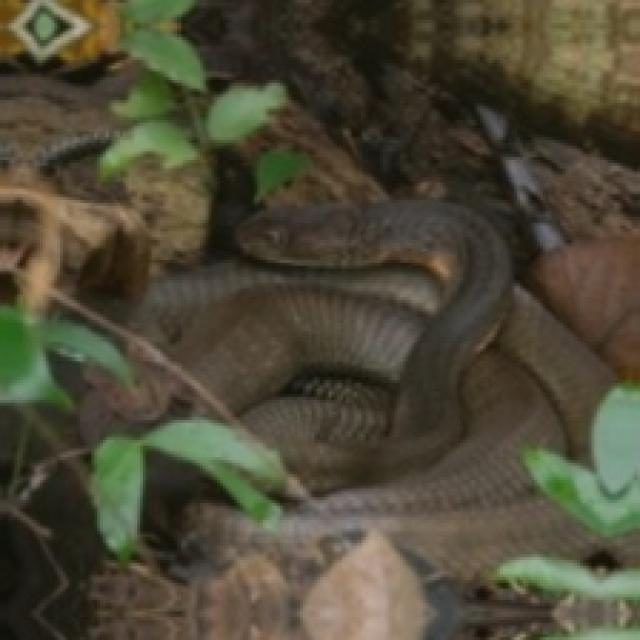king cobra: (140, 203, 509, 489)
